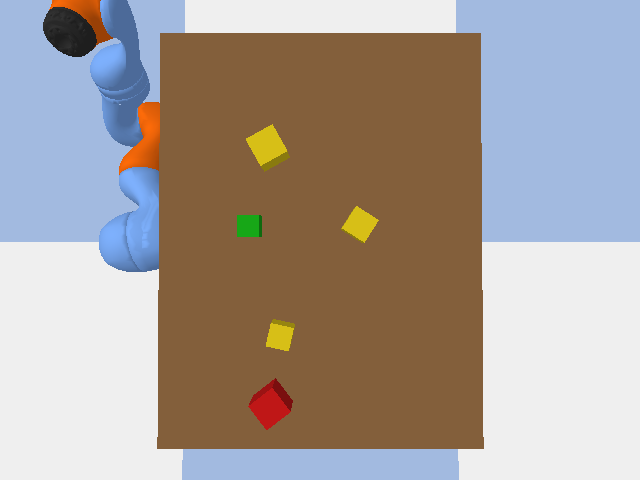green_obj: (237, 215, 261, 236)
red_obj: (248, 378, 292, 429)
yellow_obj: (246, 124, 289, 171), (341, 206, 378, 242), (266, 319, 294, 350)
